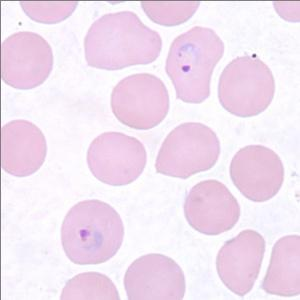Infected: (166, 25, 225, 104), (61, 198, 124, 264)
Uninfected: (84, 10, 163, 71), (154, 122, 221, 179), (217, 55, 276, 117), (110, 72, 170, 130), (216, 228, 267, 295), (86, 131, 148, 186), (183, 180, 240, 237), (230, 143, 285, 202), (0, 30, 52, 90), (124, 252, 185, 300), (0, 118, 48, 176), (259, 234, 300, 297)
